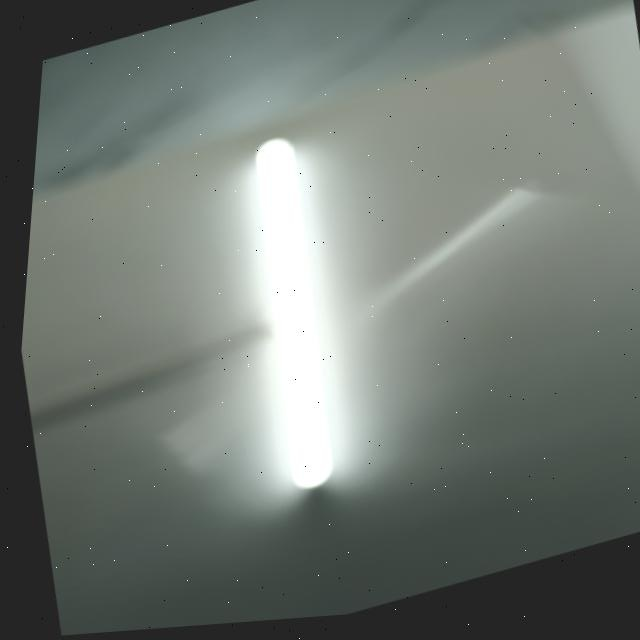fluorescent tube: (184, 119, 395, 532)
